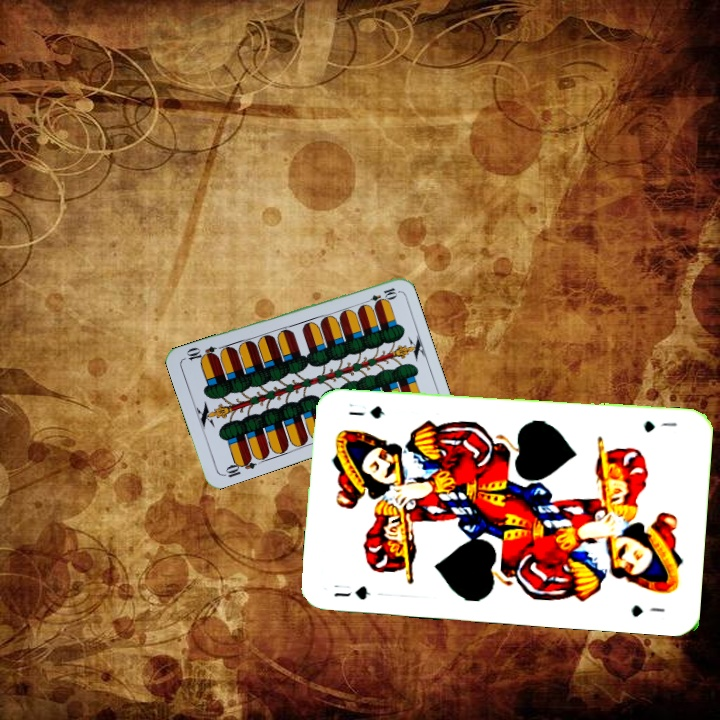E10: (219, 453, 258, 480), (360, 284, 399, 308)
GU: (330, 580, 373, 603), (640, 416, 679, 435)
